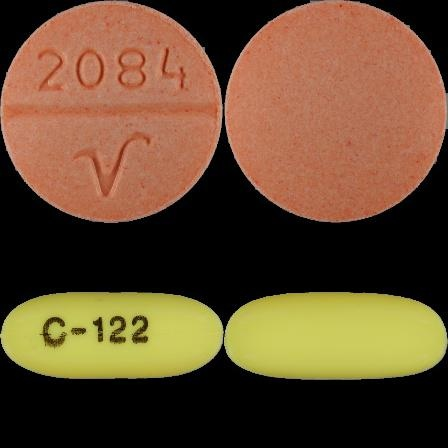55289-010: (0, 0, 224, 224)
